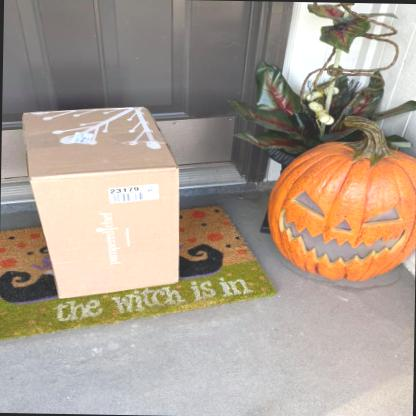box: (21, 106, 181, 302)
